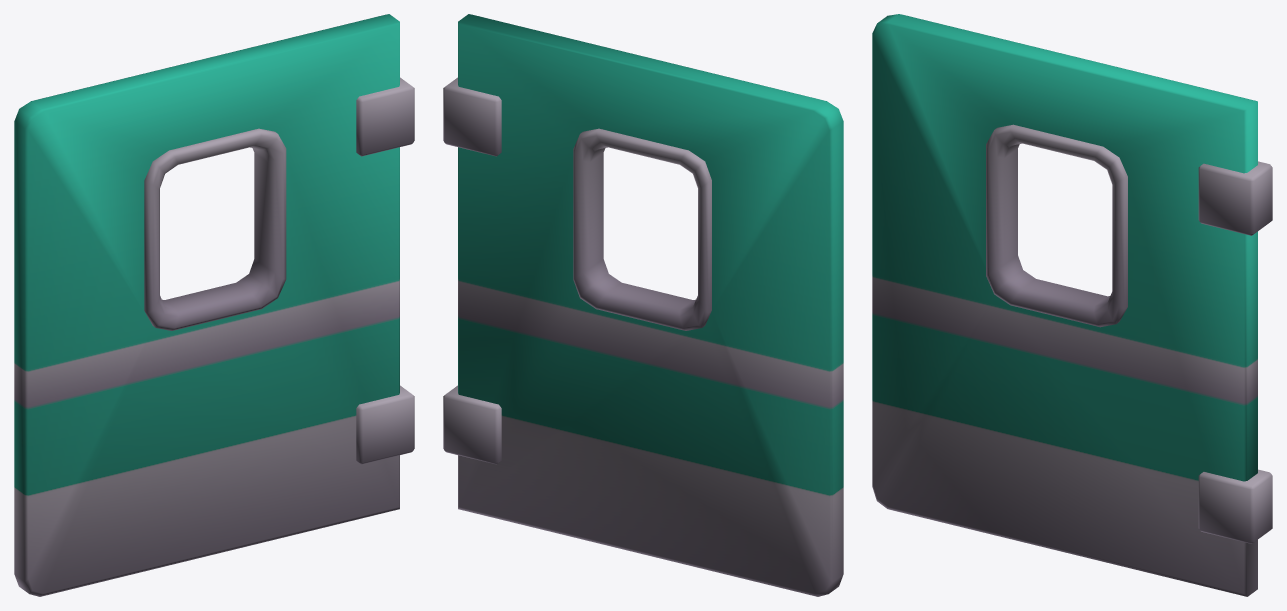
Rendered from door.fbx.
The picture shows the model from 3 angles, left to right: view 1: azimuth 30°, elevation 25°; view 2: azimuth 150°, elevation 25°; view 3: azimuth 330°, elevation 25°; orthographic projection.
Visible parts, largest first — view 1: door; view 2: door; view 3: door.
Part boxes in pixels (bbox=[...]): door: bbox=[14, 14, 414, 596]; door: bbox=[443, 14, 843, 596]; door: bbox=[872, 14, 1272, 596].
Size of the model in its own units: 179 by 17.85 by 216.
